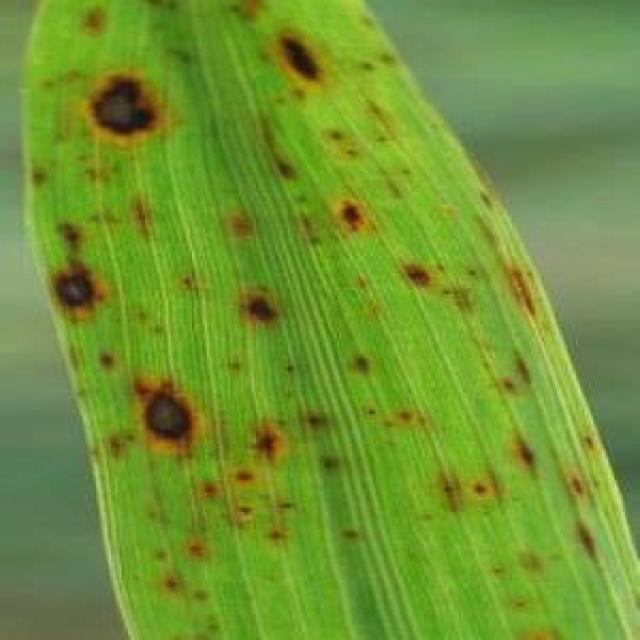Rice: (67, 54, 176, 154), (35, 260, 132, 333), (132, 528, 228, 601), (136, 375, 199, 445), (128, 183, 183, 252), (496, 338, 546, 413), (267, 22, 319, 86), (223, 464, 262, 530), (244, 410, 287, 466), (568, 520, 617, 566), (337, 194, 386, 236), (264, 151, 310, 192), (514, 427, 546, 484), (241, 287, 285, 328), (48, 215, 98, 251), (391, 395, 435, 433), (552, 462, 590, 506), (400, 254, 444, 289), (313, 453, 355, 486), (88, 344, 125, 380), (307, 400, 341, 438), (342, 336, 373, 372), (185, 476, 218, 506)
